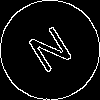N: (25, 25, 81, 83)
